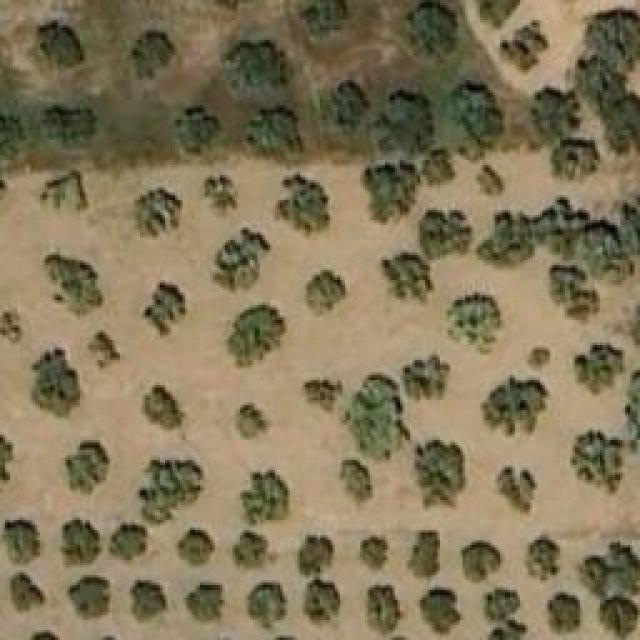Tree: (342, 372, 410, 460), (480, 375, 548, 438), (208, 228, 273, 293), (138, 460, 203, 525), (577, 542, 640, 605), (43, 253, 103, 318), (225, 305, 285, 368), (362, 160, 420, 225), (415, 440, 468, 510), (30, 348, 80, 421), (585, 8, 640, 72), (448, 293, 503, 356), (578, 53, 634, 114), (570, 433, 623, 496), (400, 5, 460, 60), (278, 175, 333, 233), (385, 90, 435, 153), (450, 83, 500, 146), (573, 343, 628, 396), (550, 265, 600, 323), (578, 225, 631, 278), (238, 468, 288, 523), (420, 210, 470, 263), (65, 440, 110, 498), (417, 585, 465, 638), (135, 188, 183, 241), (402, 353, 450, 403), (250, 105, 298, 155), (380, 252, 430, 300), (143, 283, 186, 338), (130, 30, 178, 78), (43, 108, 96, 151), (483, 220, 536, 263), (233, 43, 283, 88), (0, 517, 45, 565), (495, 465, 538, 515), (60, 518, 103, 568), (37, 23, 85, 66), (143, 385, 186, 433), (175, 105, 218, 153), (530, 88, 575, 133), (323, 85, 363, 135), (305, 270, 348, 315), (460, 540, 503, 585), (597, 595, 640, 640), (550, 138, 595, 181), (248, 582, 288, 630), (305, 578, 340, 631), (368, 583, 403, 636), (338, 460, 373, 510), (605, 103, 640, 153), (185, 583, 225, 626), (543, 593, 583, 636), (525, 535, 560, 583), (408, 530, 441, 580), (68, 577, 111, 615), (43, 170, 86, 208), (502, 30, 540, 73), (108, 523, 148, 563), (203, 175, 242, 215), (177, 528, 215, 568), (88, 325, 121, 370), (478, 588, 523, 621), (10, 573, 45, 613), (470, 0, 518, 28), (232, 528, 270, 563), (0, 113, 25, 166), (300, 535, 333, 575), (235, 403, 270, 438), (133, 580, 168, 615), (305, 0, 342, 32), (305, 380, 343, 403), (360, 538, 388, 568), (425, 148, 450, 181), (0, 310, 22, 345), (478, 168, 501, 198), (525, 348, 550, 371)
